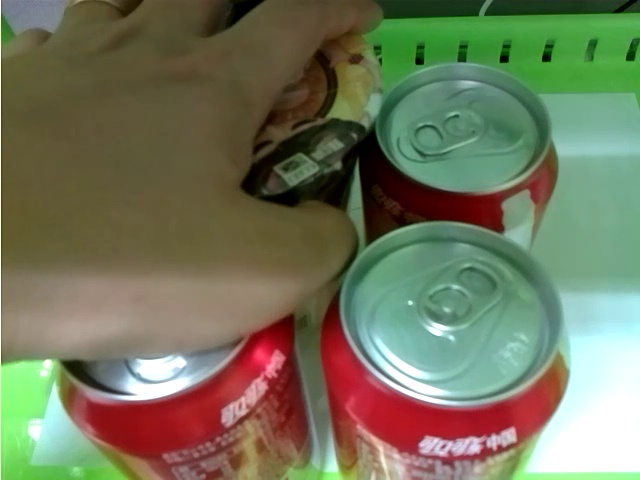cocacola: (324, 225, 572, 480), (48, 341, 313, 480), (369, 68, 562, 239)
hand: (1, 1, 361, 354)
noodles: (237, 8, 381, 218)
